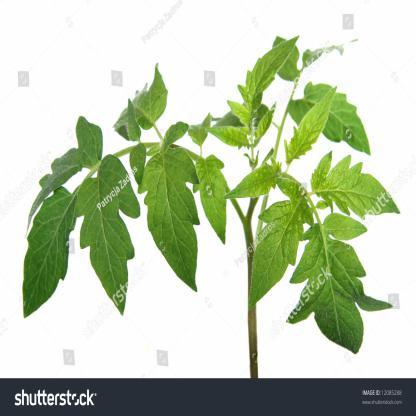Tomato leaf bacterial spot: (78, 155, 165, 355), (300, 205, 380, 369), (144, 124, 212, 308), (307, 145, 412, 250), (19, 173, 86, 325), (228, 33, 294, 165), (275, 75, 342, 191), (248, 191, 306, 307)
